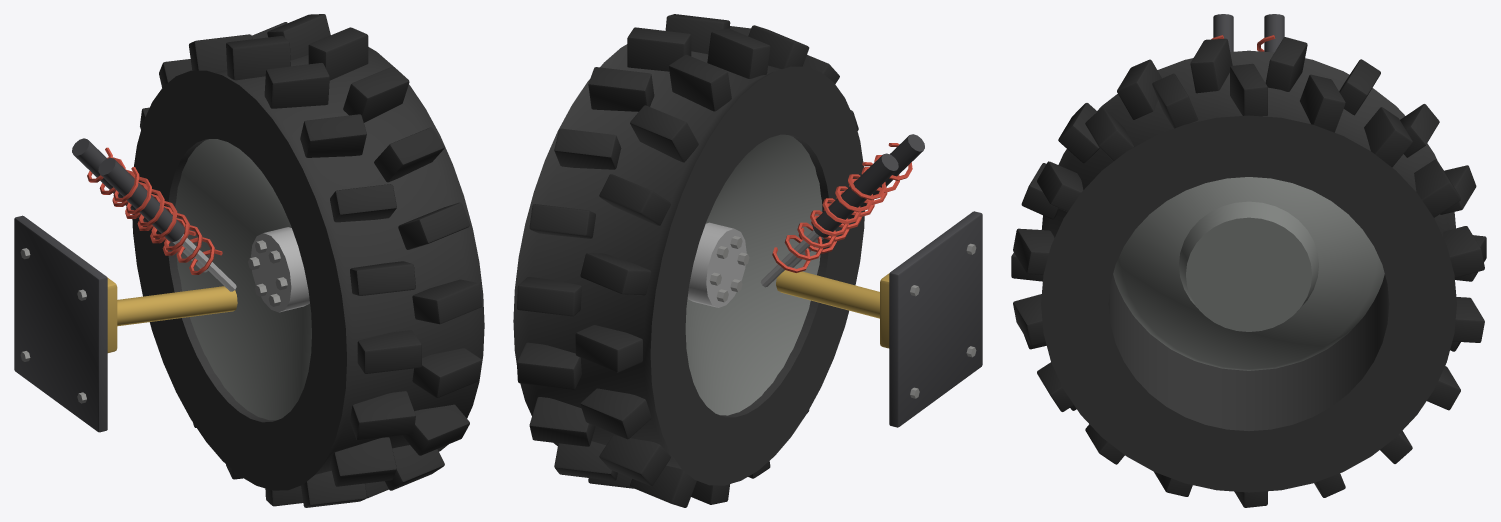
File: wheel_l.glb
3 views of the same model, side by side, from view 1: azimuth 30°, elevation 25°; view 2: azimuth 150°, elevation 25°; view 3: azimuth 270°, elevation 25° (orthographic). The views are drawn at different scales.
Visible parts, largest first — view 1: Wheel, Part; view 2: Wheel, Part; view 3: Wheel, Part.
Part boxes in pixels (x1=…): Wheel: x1=132, y1=14, x2=484, y2=507; Part: x1=14, y1=138, x2=237, y2=432; Wheel: x1=513, y1=14, x2=864, y2=507; Part: x1=760, y1=134, x2=982, y2=427; Wheel: x1=1011, y1=37, x2=1486, y2=507; Part: x1=1211, y1=14, x2=1284, y2=52.
Bounding box in the file's own units: 0.994 × 1.27 × 1.3.
